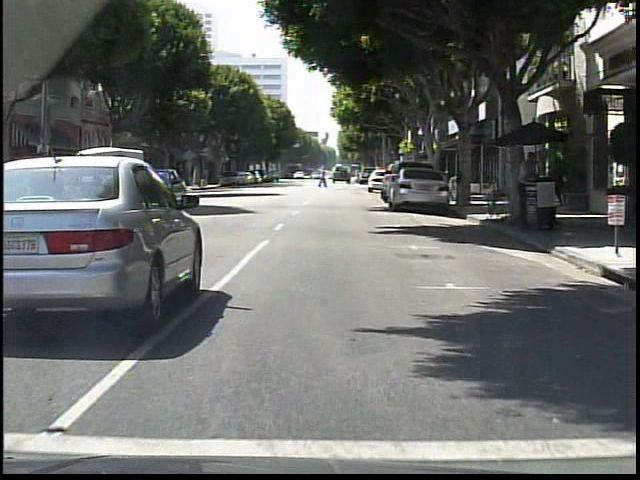person: (514, 149, 544, 227), (317, 168, 328, 188)
